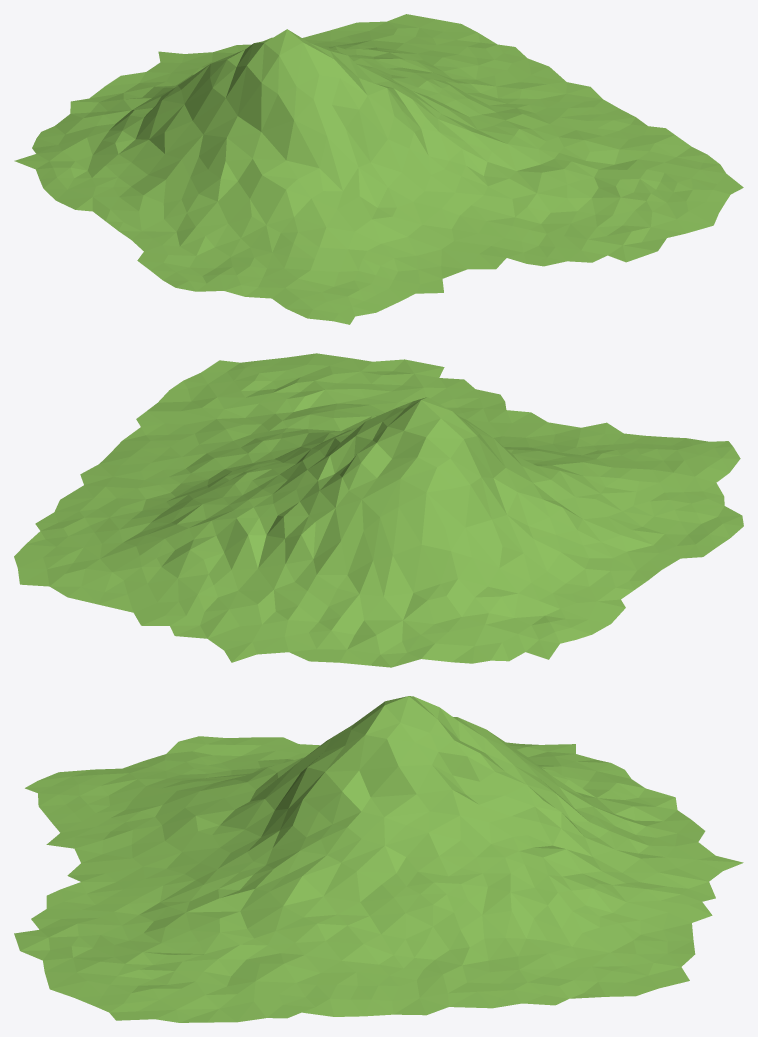
File: MT_Mountain_L_a_32_LOD.fbx
The picture shows the model from 3 angles, top to bottom: view 1: azimuth 30°, elevation 25°; view 2: azimuth 150°, elevation 25°; view 3: azimuth 270°, elevation 25°; orthographic projection. The views are drawn at different scales.
Visible parts, largest first — view 1: MT_Mountain_L_a_32_LOD0; view 2: MT_Mountain_L_a_32_LOD0; view 3: MT_Mountain_L_a_32_LOD0.
Part boxes in pixels (left/top/right/bottom): MT_Mountain_L_a_32_LOD0: left=14, top=14, right=743, bottom=324; MT_Mountain_L_a_32_LOD0: left=14, top=353, right=743, bottom=667; MT_Mountain_L_a_32_LOD0: left=14, top=696, right=743, bottom=1022.
Size of what is drawn, in the model's own units: 7572 by 1905 by 8169.
